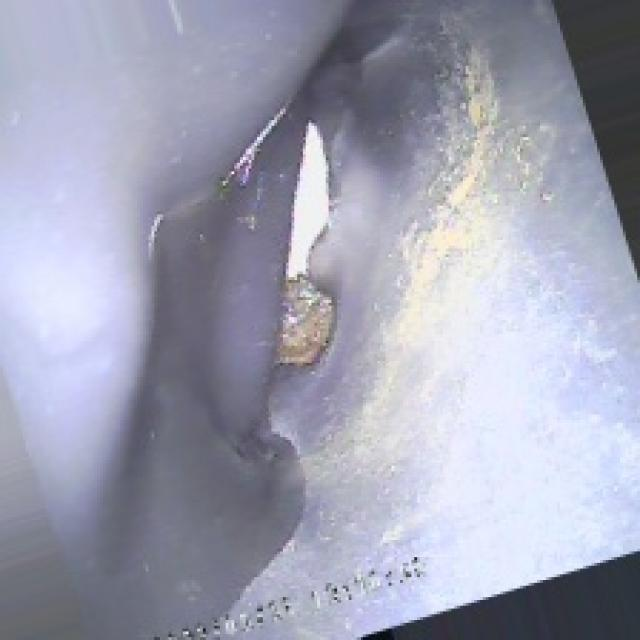shape_deformation: (106, 54, 534, 483)
